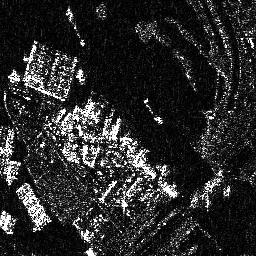ship: (65, 6, 86, 46), (142, 96, 165, 126)
